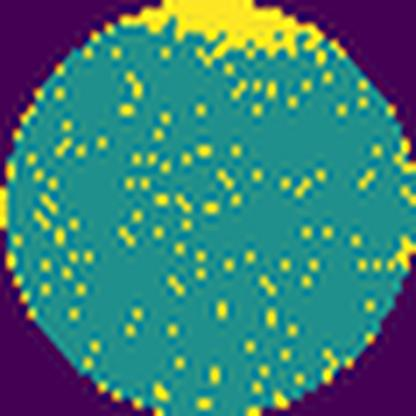Edge-Loc: (118, 0, 324, 57)
